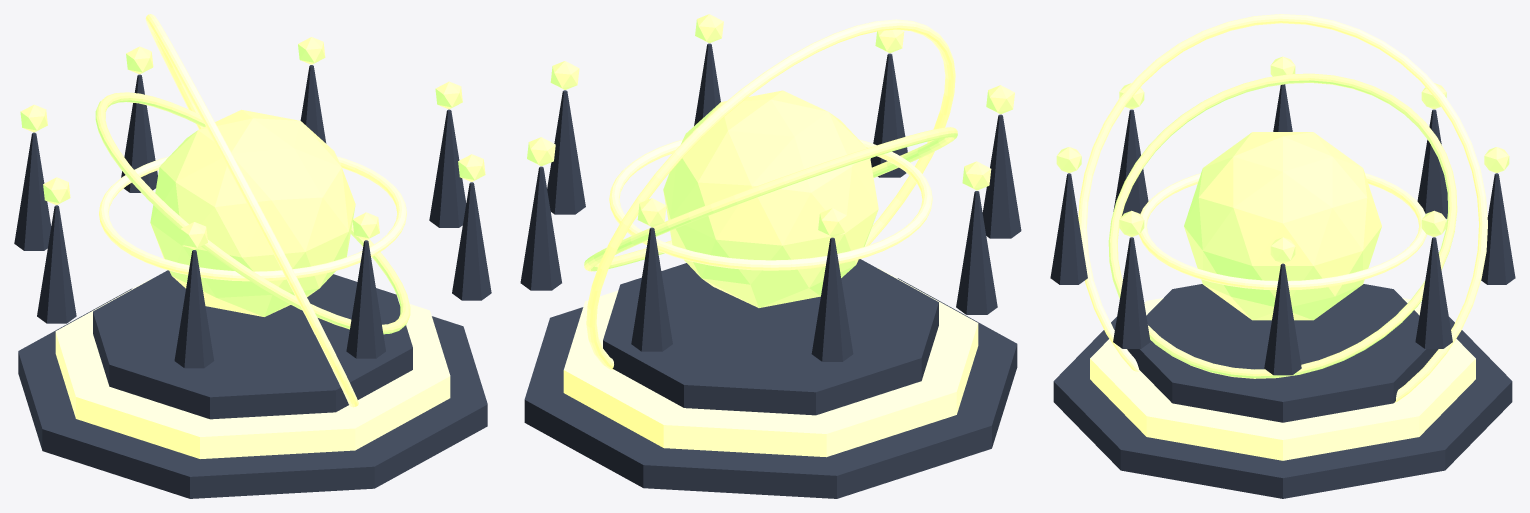
Rendered from gpu-blender-v12.glb.
3 views of the same model, side by side, from view 1: azimuth 30°, elevation 25°; view 2: azimuth 150°, elevation 25°; view 3: azimuth 270°, elevation 25° (orthographic). The views are drawn at different scales.
Parts seen in each view (by area): view 1: Cylinder.002, SovereignCore_envguard-secrets-vault, Cylinder, Cylinder.001, Torus.001, Torus.002, Torus, Cone.005, Cone.007, Cone.004, Cone.006, Cone (+11 smaller); view 2: Cylinder.002, SovereignCore_envguard-secrets-vault, Cylinder, Cylinder.001, Torus.002, Torus.001, Torus, Cone.001, Cone.003, Cone.002, Cone.004, Cone (+11 smaller); view 3: SovereignCore_envguard-secrets-vault, Cylinder.002, Cylinder, Cylinder.001, Torus.002, Torus.001, Torus, Cone, Cone.001, Cone.007, Cone.006, Cone.002 (+8 smaller).
Boxes of the visible parts, bbox=[...] form: Cylinder.002: bbox=[93, 270, 412, 419]; SovereignCore_envguard-secrets-vault: bbox=[150, 109, 355, 316]; Cylinder: bbox=[18, 288, 487, 498]; Cylinder.001: bbox=[55, 278, 450, 458]; Torus.001: bbox=[95, 92, 410, 334]; Torus.002: bbox=[145, 14, 358, 407]; Torus: bbox=[99, 156, 406, 281]; Cone.005: bbox=[174, 250, 214, 368]; Cone.007: bbox=[452, 182, 491, 300]; Cone.004: bbox=[37, 205, 76, 323]; Cone.006: bbox=[346, 240, 385, 358]; Cone: bbox=[429, 109, 466, 227]; Cylinder.002: bbox=[603, 259, 938, 415]; SovereignCore_envguard-secrets-vault: bbox=[663, 90, 878, 307]; Cylinder: bbox=[524, 278, 1017, 498]; Cylinder.001: bbox=[563, 268, 978, 457]; Torus.002: bbox=[586, 19, 955, 369]; Torus.001: bbox=[584, 127, 957, 271]; Torus: bbox=[609, 139, 932, 270]; Cone.001: bbox=[520, 166, 561, 290]; Cone.003: bbox=[811, 237, 853, 361]; Cone.002: bbox=[631, 227, 672, 351]; Cone.004: bbox=[956, 191, 997, 314]; Cone: bbox=[547, 90, 585, 214]; SovereignCore_envguard-secrets-vault: bbox=[1184, 132, 1381, 320]; Cylinder.002: bbox=[1127, 284, 1438, 422]; Cylinder: bbox=[1053, 317, 1512, 498]; Cylinder.001: bbox=[1090, 298, 1475, 460]; Torus.002: bbox=[1078, 14, 1487, 402]; Torus.001: bbox=[1108, 73, 1457, 378]; Torus: bbox=[1139, 173, 1426, 290]; Cone: bbox=[1264, 263, 1301, 375]; Cone.001: bbox=[1415, 237, 1452, 348]; Cone.007: bbox=[1113, 237, 1150, 348]; Cone.006: bbox=[1050, 173, 1087, 284]; Cone.002: bbox=[1481, 173, 1515, 284].
Bounding box in the file's own units: 4.41 × 3.72 × 4.46.
